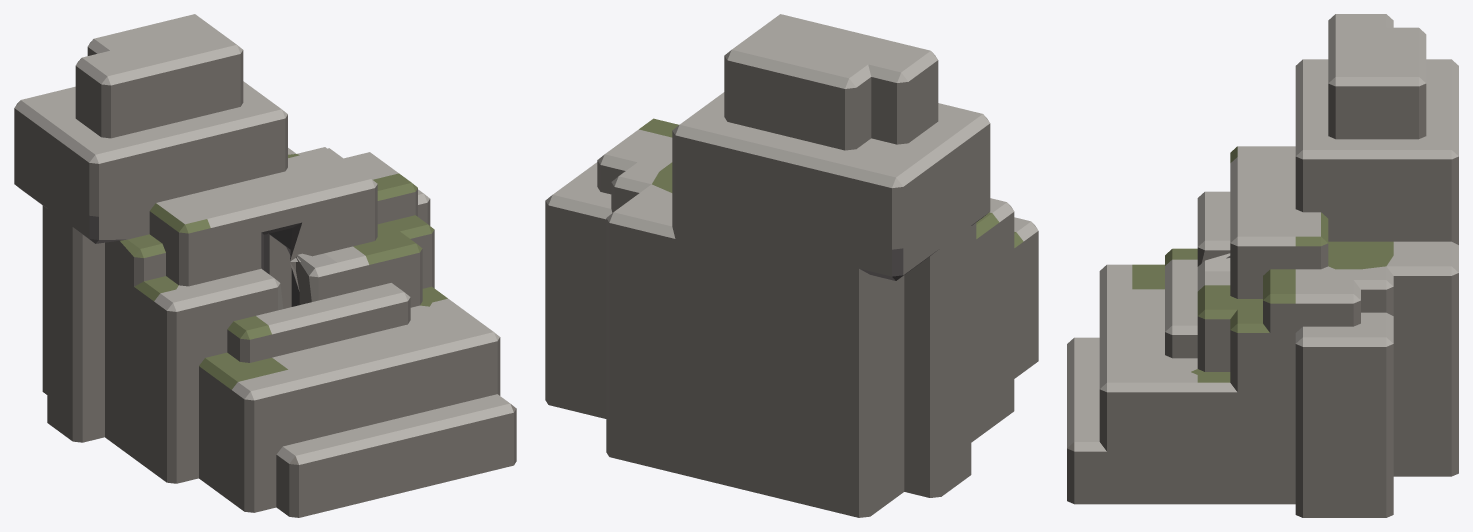
3 renders of one model, left to right at view 1: azimuth 30°, elevation 25°; view 2: azimuth 150°, elevation 25°; view 3: azimuth 270°, elevation 25°, orthographic. The views are drawn at different scales.
Visible parts, largest first — view 1: destructible_rock_stage_1_var_3_S, destructible_rock_stage_1_var_3_L, destructible_rock_stage_1_var_3_M, destructible_rock_stage_1_var_3_D; view 2: destructible_rock_stage_1_var_3_S, destructible_rock_stage_1_var_3_L, destructible_rock_stage_1_var_3_M; view 3: destructible_rock_stage_1_var_3_S, destructible_rock_stage_1_var_3_L, destructible_rock_stage_1_var_3_M.
Boxes of the visible parts, x1,y1,x2,y2 form: destructible_rock_stage_1_var_3_S: [14, 47, 516, 517]; destructible_rock_stage_1_var_3_L: [14, 14, 513, 464]; destructible_rock_stage_1_var_3_M: [120, 154, 447, 389]; destructible_rock_stage_1_var_3_D: [16, 185, 301, 306]; destructible_rock_stage_1_var_3_S: [545, 56, 1038, 517]; destructible_rock_stage_1_var_3_L: [545, 14, 1038, 241]; destructible_rock_stage_1_var_3_M: [639, 118, 1023, 247]; destructible_rock_stage_1_var_3_S: [1067, 83, 1458, 517]; destructible_rock_stage_1_var_3_L: [1067, 14, 1458, 451]; destructible_rock_stage_1_var_3_M: [1132, 146, 1393, 382].
Size of the model in its own units: 1.8 by 1.8 by 1.8.
